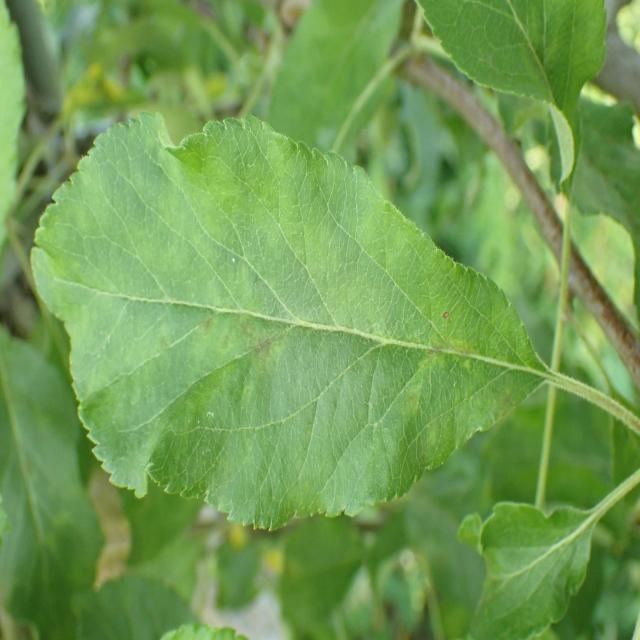scab: (46, 146, 528, 506)
